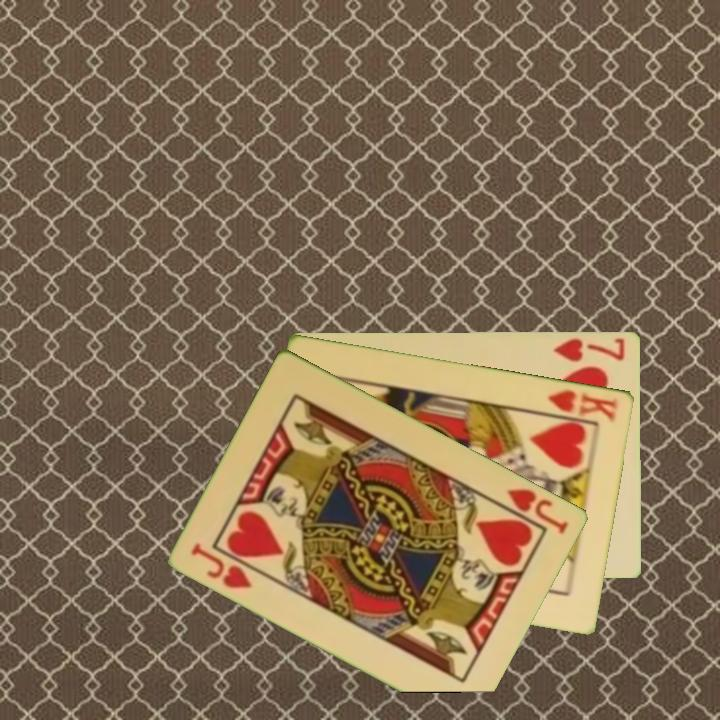7h: (551, 334, 628, 364)
Jh: (491, 484, 572, 537), (188, 539, 256, 592)
Kh: (537, 386, 621, 425)
